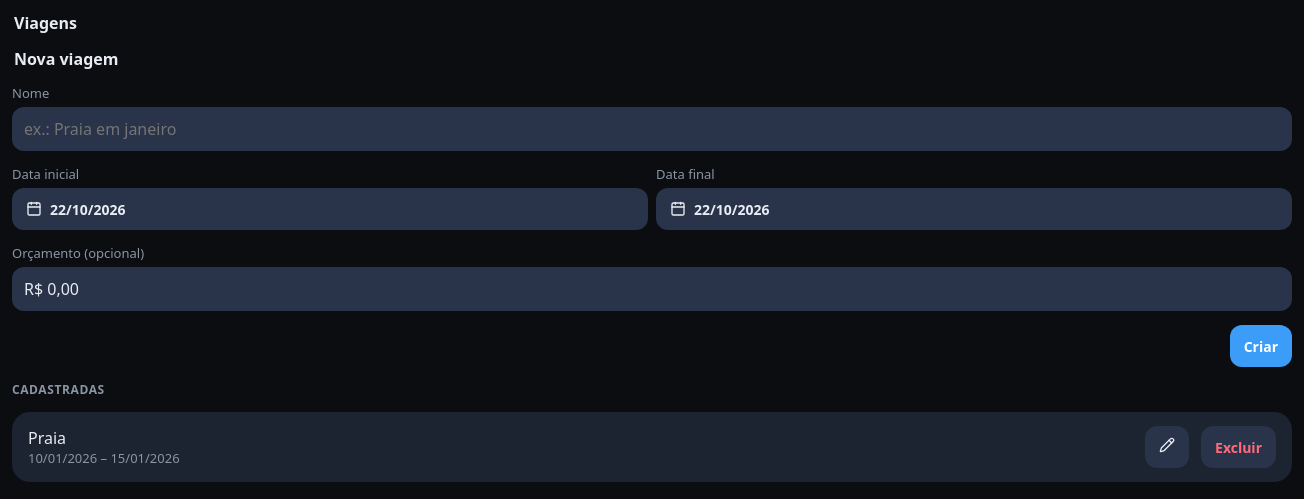
Test case: cancelar fecha o item sem gravar e traz "Nova viagem" de volta
Click the button named "Editar" at (1167, 447), box 1145,426 -> 1189,468
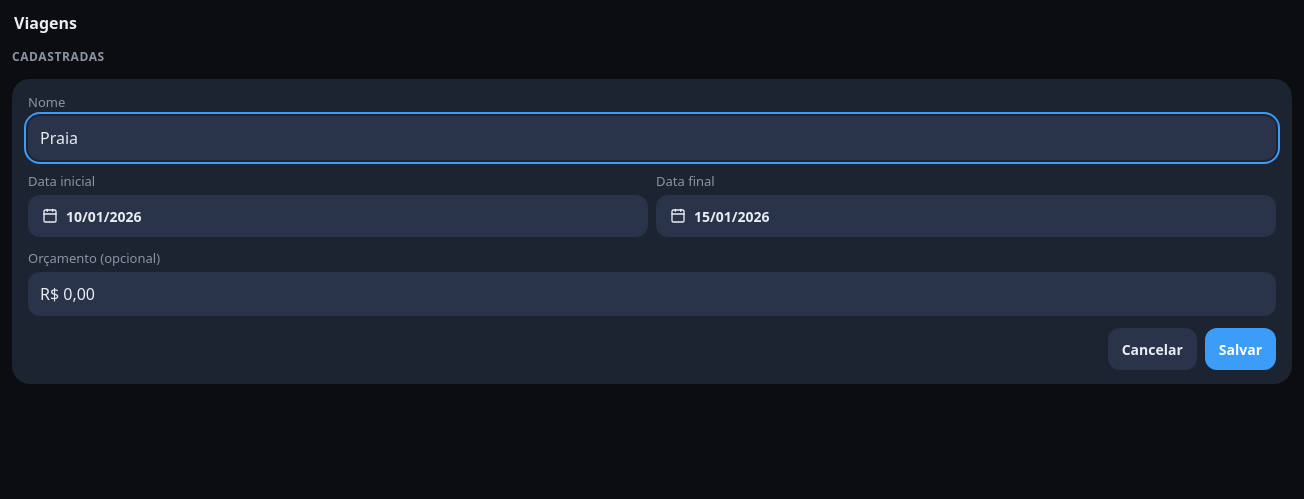
Replace the text in the field labelled "Nome" with "Outro nome" at (652, 138), box 28,116 -> 1276,160
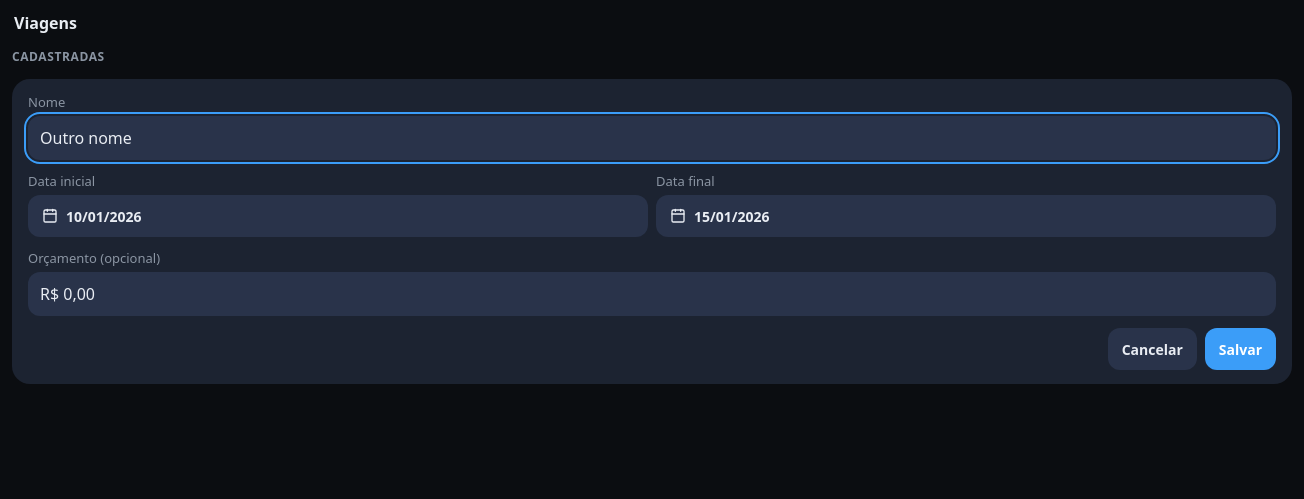
Click the button "Cancelar" at (1152, 349), box 1108,328 -> 1197,370
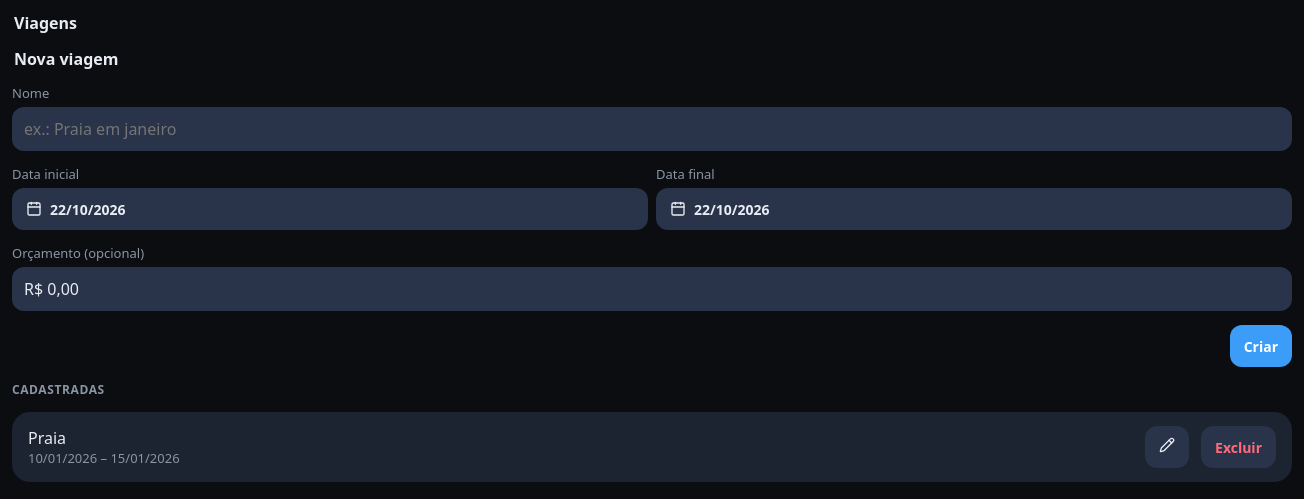
Result: the heading "Nova viagem" is shown at 14,48 -> 118,70
Result: the text "Praia" is shown at 28,427 -> 66,449
